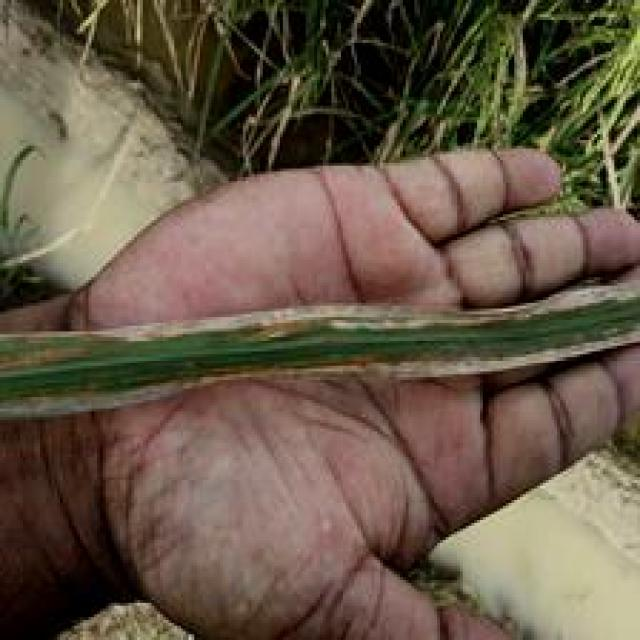Bacterial_Leaf_Blight: (12, 289, 637, 397)
